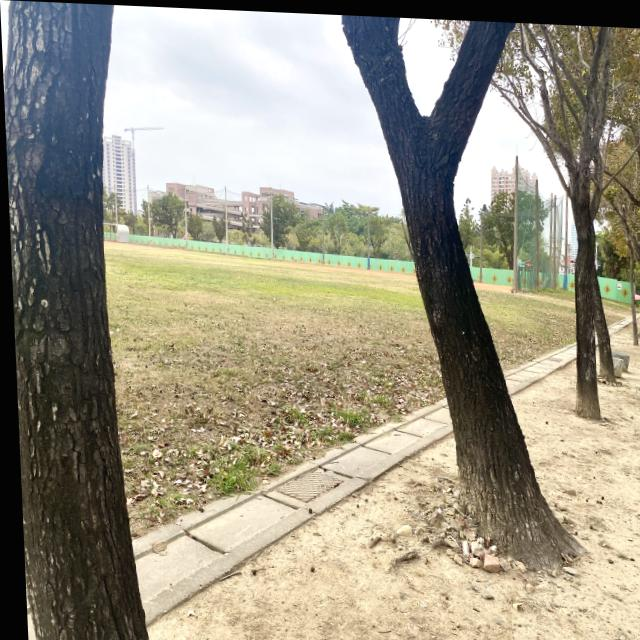tree: (343, 12, 577, 564), (4, 0, 143, 640), (491, 18, 612, 413), (604, 21, 640, 274), (589, 264, 612, 377)
